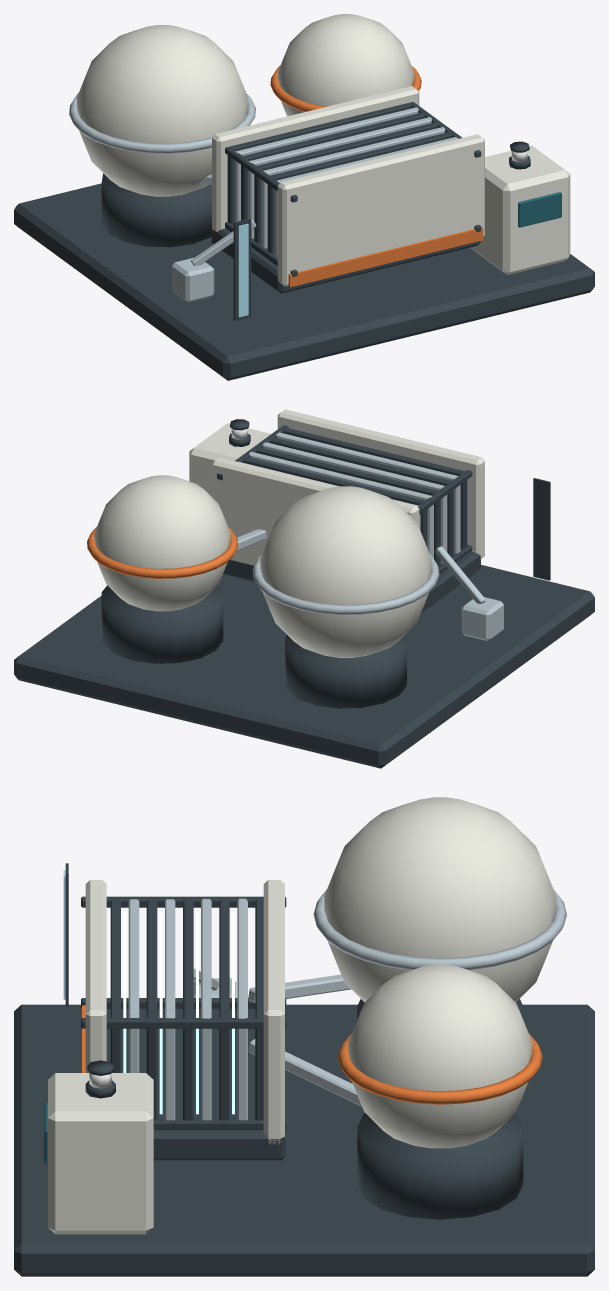
File: fuelcell.glb
3 views of the same model, one above another, from view 1: azimuth 30°, elevation 25°; view 2: azimuth 150°, elevation 25°; view 3: azimuth 270°, elevation 25° (orthographic). The views are drawn at different scales.
Parts seen in each view (by area): view 1: fuelcell_ivory, fuelcell_dark, fuelcell_metal, fuelcell_orange, fuelcell_glass, Level; view 2: fuelcell_dark, fuelcell_ivory, fuelcell_metal, fuelcell_orange; view 3: fuelcell_dark, fuelcell_ivory, fuelcell_metal, fuelcell_orange, fuelcell_cyan.
Part boxes in pixels (left/top/right/bottom): fuelcell_ivory: left=77, top=14, right=570, bottom=286; fuelcell_dark: left=14, top=102, right=594, bottom=380; fuelcell_metal: left=69, top=92, right=458, bottom=302; fuelcell_orange: left=270, top=65, right=483, bottom=287; fuelcell_glass: left=518, top=192, right=561, bottom=227; Level: left=238, top=223, right=248, bottom=317; fuelcell_dark: left=14, top=419, right=594, bottom=768; fuelcell_ivory: left=94, top=409, right=484, bottom=657; fuelcell_metal: left=236, top=432, right=503, bottom=641; fuelcell_orange: left=87, top=527, right=237, bottom=578; fuelcell_dark: left=14, top=863, right=594, bottom=1276; fuelcell_ivory: left=48, top=797, right=556, bottom=1234; fuelcell_metal: left=128, top=889, right=566, bottom=1120; fuelcell_orange: left=82, top=1005, right=542, bottom=1104; fuelcell_cyan: left=123, top=912, right=234, bottom=1114.
Bounding box in the file's own units: 3.85 × 2.11 × 3.85.
